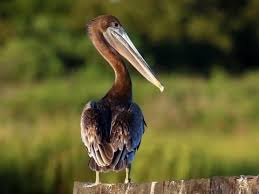pelican: (81, 15, 164, 183)
